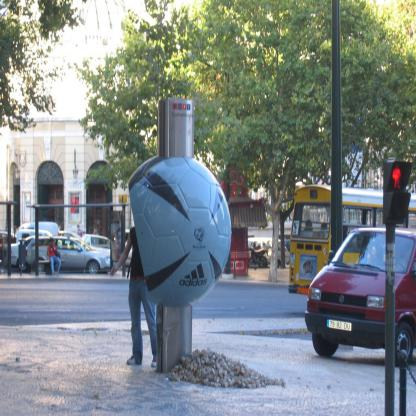Ball: (128, 158, 232, 308)
